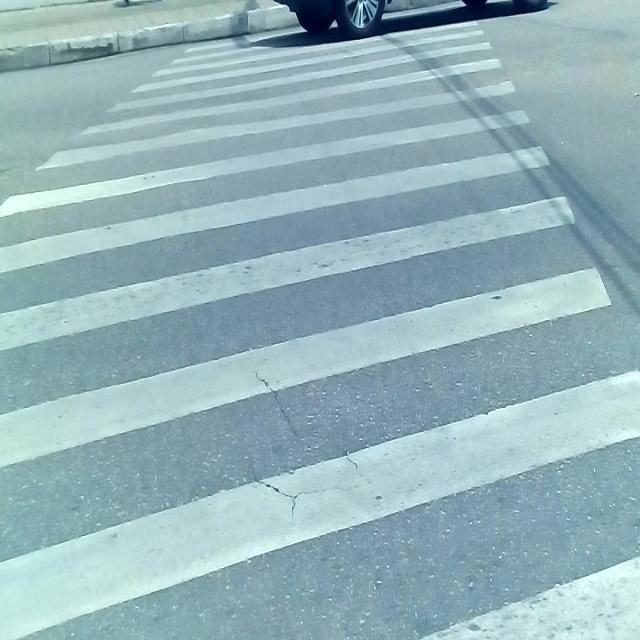crosswalk: (0, 1, 640, 640)
